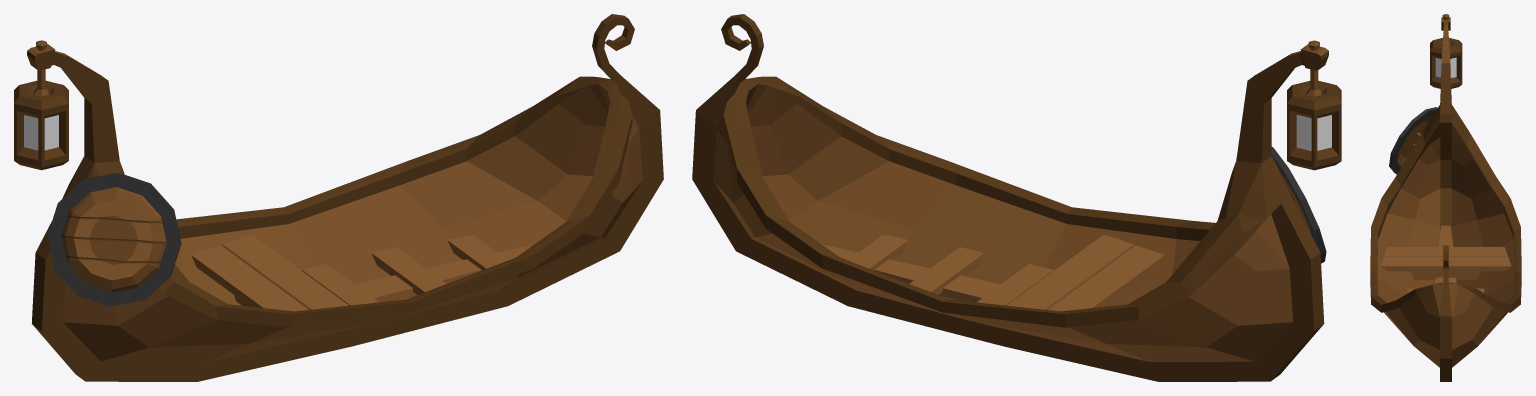
File: D_Rowboat_Wood.fbx
3 views of the same model, side by side, from view 1: azimuth 30°, elevation 25°; view 2: azimuth 150°, elevation 25°; view 3: azimuth 270°, elevation 25° (orthographic). The views are drawn at different scales.
Parts seen in each view (by area): view 1: D_Rowboat_Wood; view 2: D_Rowboat_Wood; view 3: D_Rowboat_Wood.
Boxes of the visible parts, x1,y1,x2,y2 form: D_Rowboat_Wood: (14, 14, 663, 381); D_Rowboat_Wood: (692, 14, 1341, 381); D_Rowboat_Wood: (1370, 14, 1521, 381).
Bounding box in the file's own units: 439 × 244 × 152.
